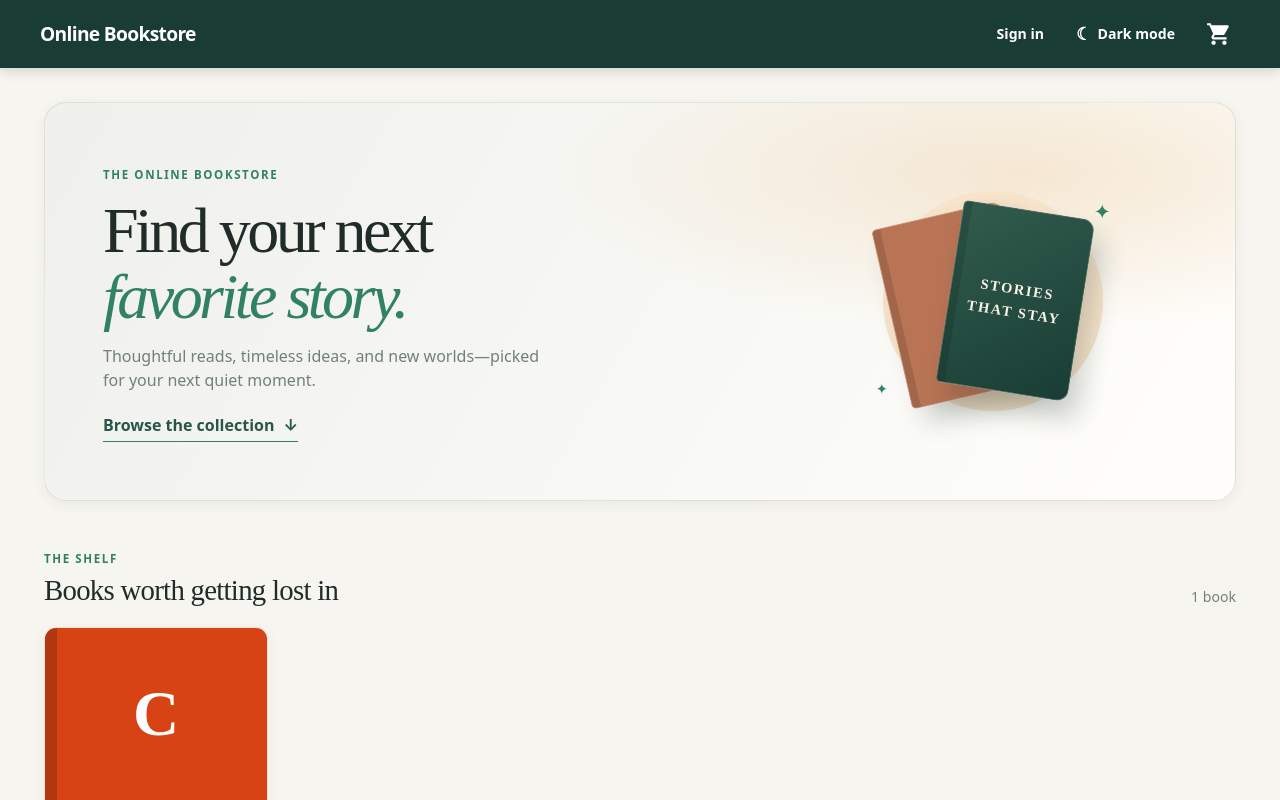
Test: App (logged out) › shows the backend message when login fails
Click the button "Sign in" at (1020, 34), box [988,15,1053,52]
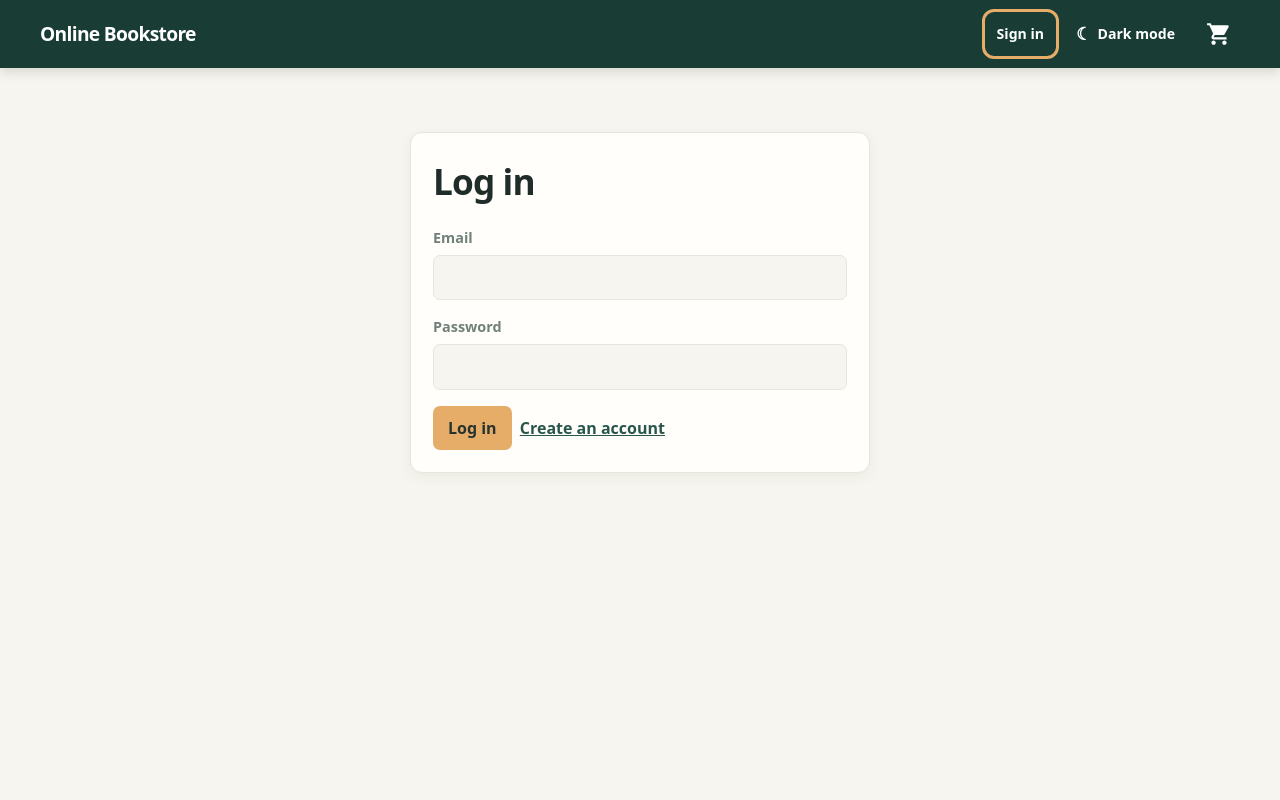
Type "asha@example.com" into the field labelled "Email" at (640, 278), box [433,255,847,300]
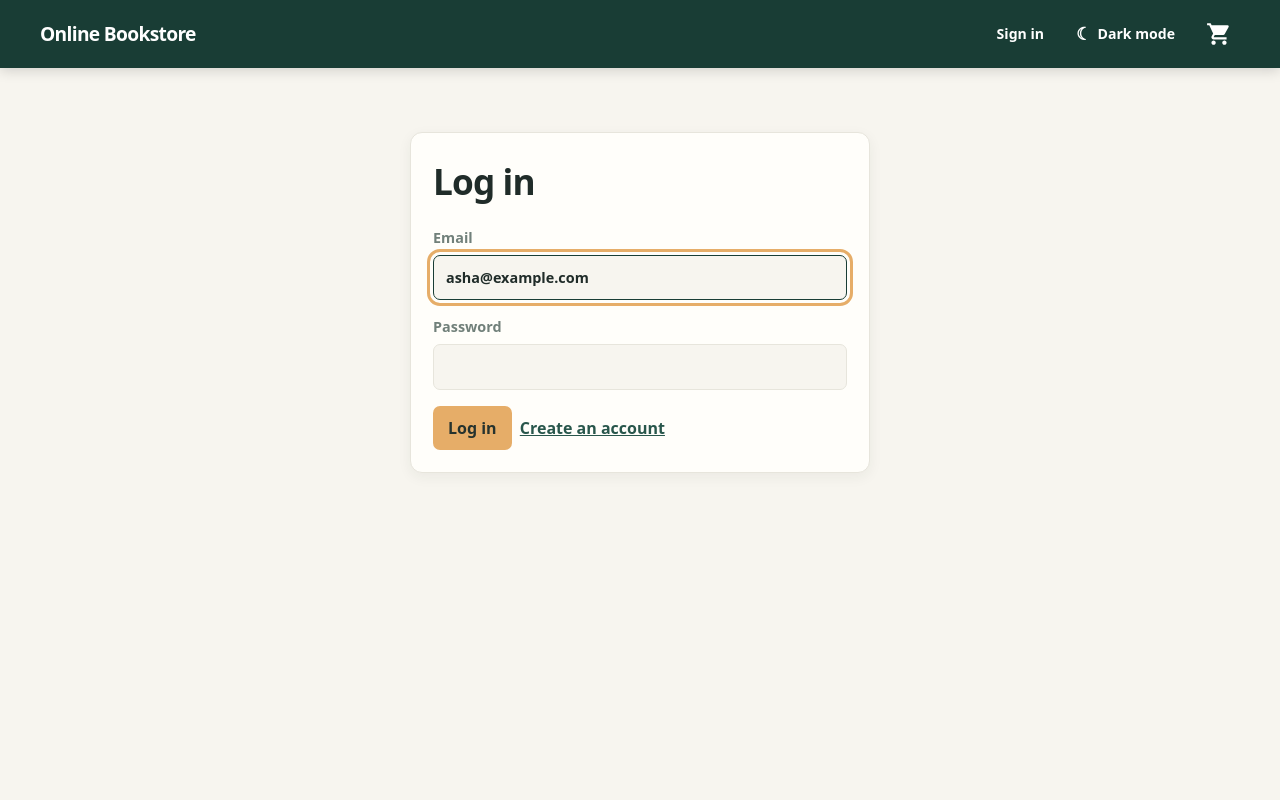
Type "wrongpass1" into the password field labelled "Password" at (640, 367), box [433,344,847,390]
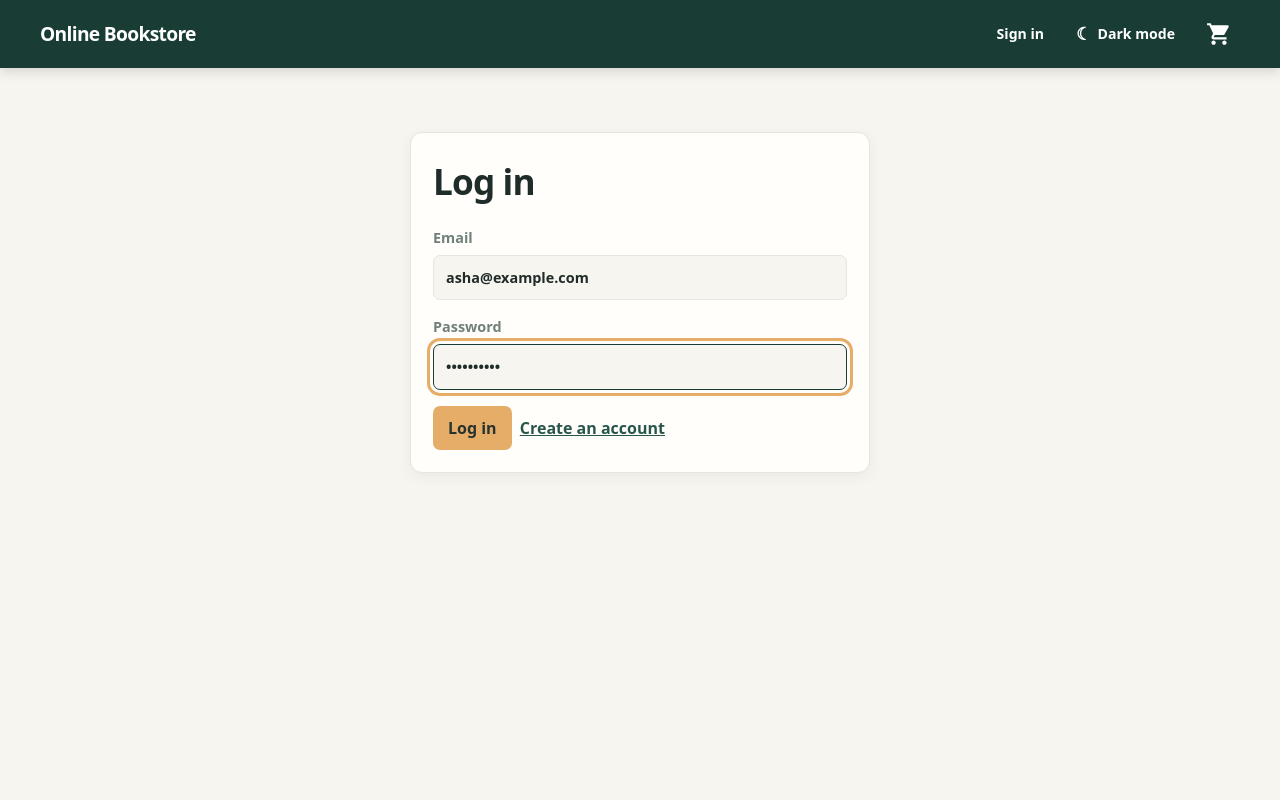
Click the button "Log in" at (472, 428), box [433,406,512,450]
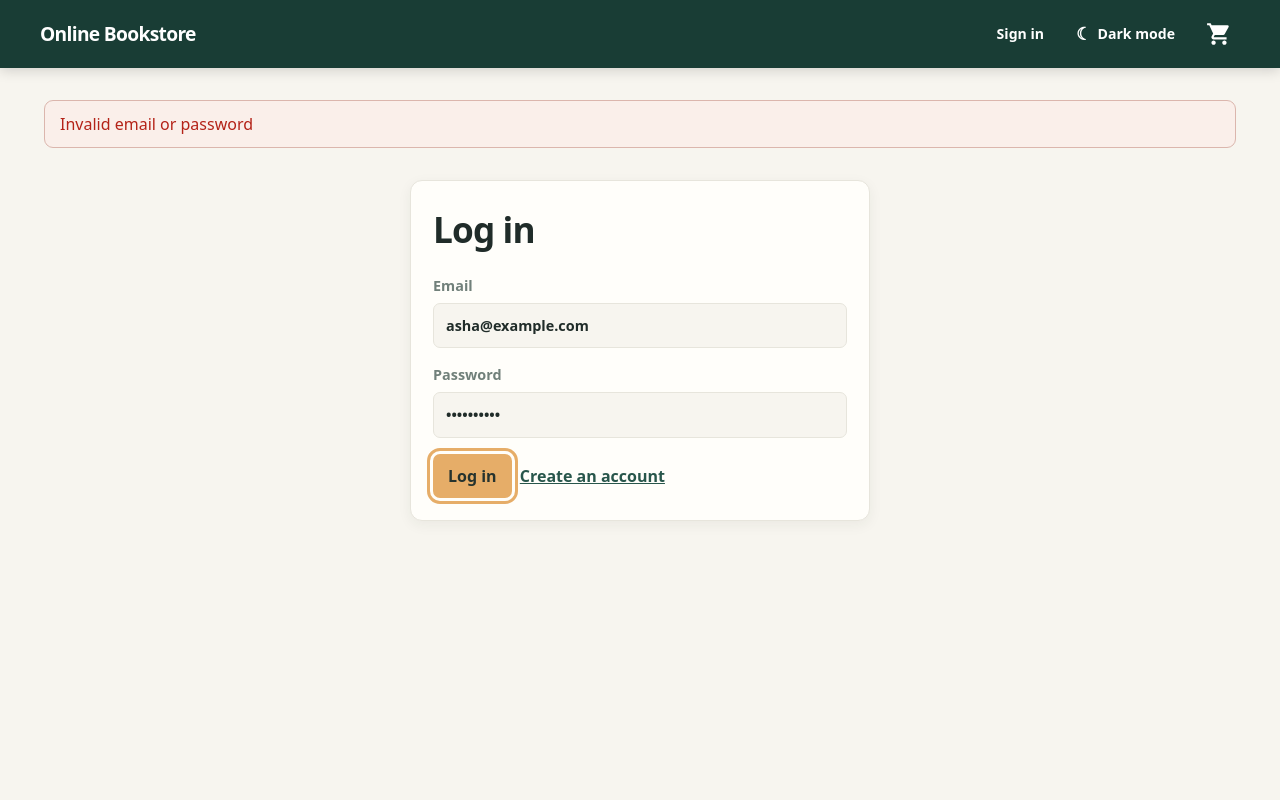
Check: the message reads "Invalid email or password", box [60,113,253,135]
